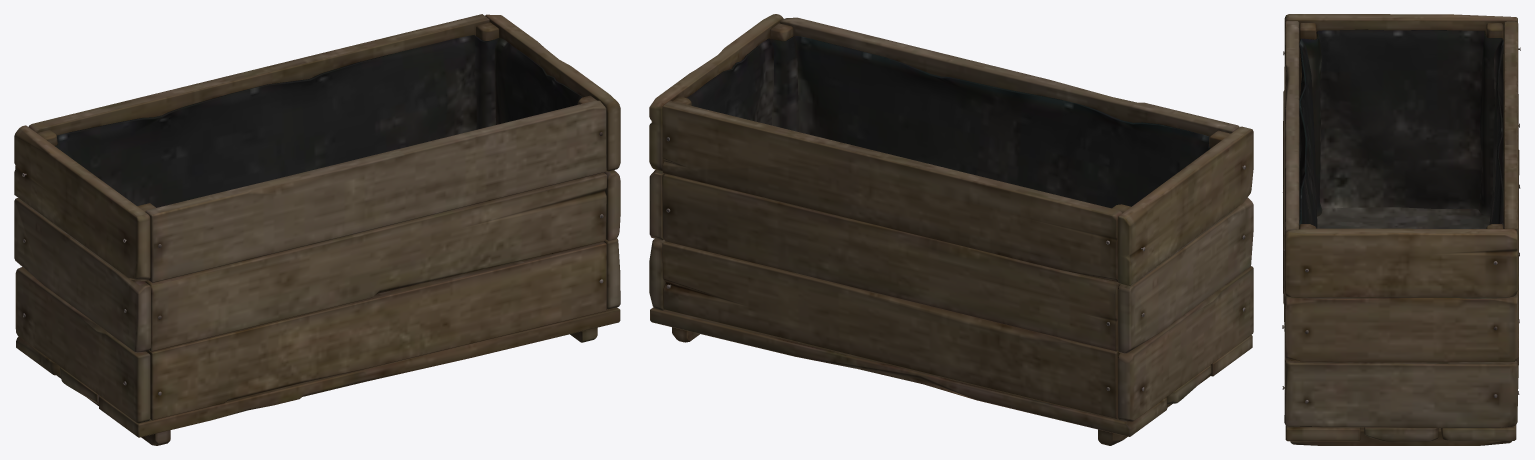
File: m_planter_box_01.glb
3 renders of one model, left to right at view 1: azimuth 30°, elevation 25°; view 2: azimuth 150°, elevation 25°; view 3: azimuth 270°, elevation 25°, orthographic. The views are drawn at different scales.
Parts seen in each view (by area): view 1: planter_box_01; view 2: planter_box_01; view 3: planter_box_01.
Boxes of the visible parts, x1,y1,x2,y2 form: planter_box_01: [14, 14, 620, 445]; planter_box_01: [649, 14, 1253, 445]; planter_box_01: [1282, 14, 1520, 445].
Bounding box in the file's own units: 0.9126 × 0.4249 × 0.4137.
1 material, 1 textured.
